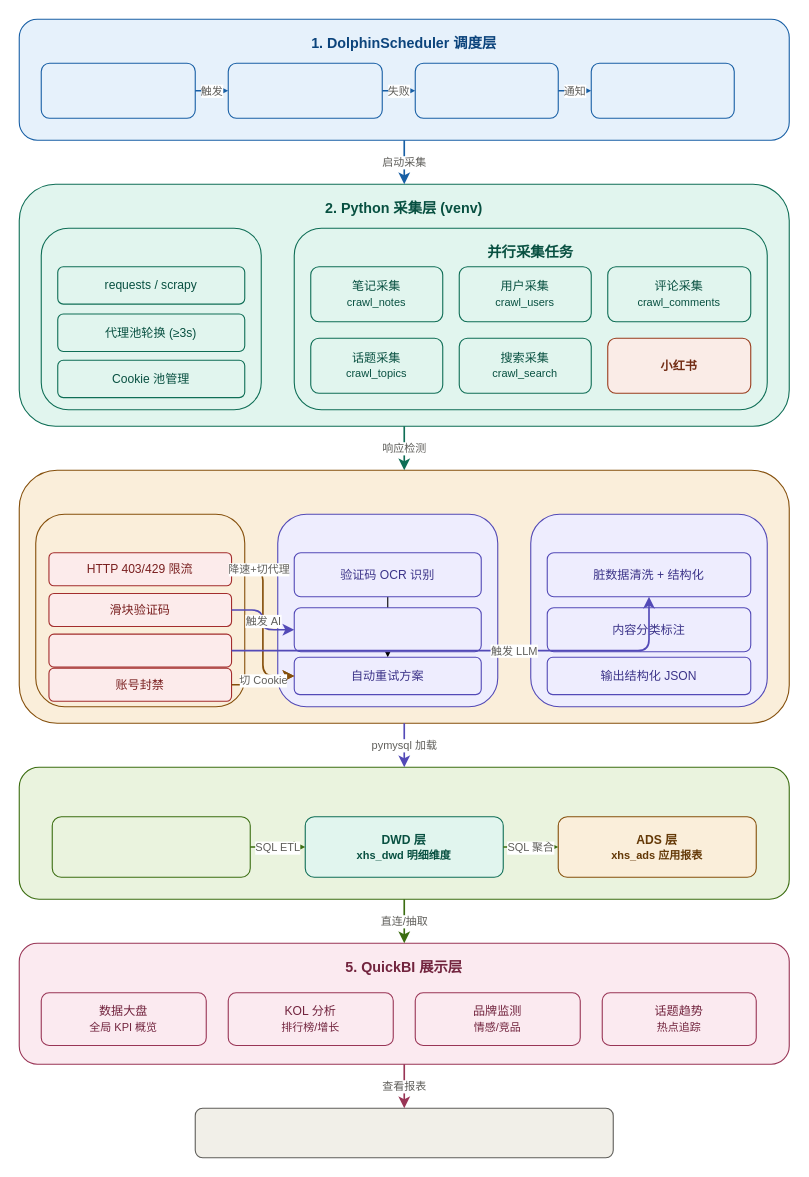
The diagram is 809 pixels wide and 1177 high, and some of its shapes have lost their labels. The shapes that lost their labels are listed below. From the top down, each one's box as (x1, y1, x2, y2) in pixels, then its label:
(40, 62, 195, 118): 定时触发器 每日 01:00 / 4h热点
(227, 62, 382, 118): DAG 工作流 任务编排管理
(414, 62, 558, 118): 重试策略 3次/5min递增
(590, 62, 734, 118): 告警通知 钉钉/邮件/企微
(40, 227, 261, 410): 请求引擎
(35, 513, 245, 707): 触发条件
(277, 513, 498, 707): AI Agent 场景
(18, 469, 789, 723): 3. 反爬检测 + AI Agent / LLM 智能层
(530, 513, 767, 707): LLM 处理场景
(293, 607, 481, 652): 滑块模拟拖动
(48, 633, 232, 667): 脏数据 / 格式异常
(51, 816, 250, 877): ODS 层 xhs_ods 原始数据
(18, 766, 789, 899): 4. MySQL 数仓存储层 (ODS → DWD → ADS)
(194, 1107, 613, 1158): 项目管理者 / 运营人员 / 数据分析师 / 市场团队
